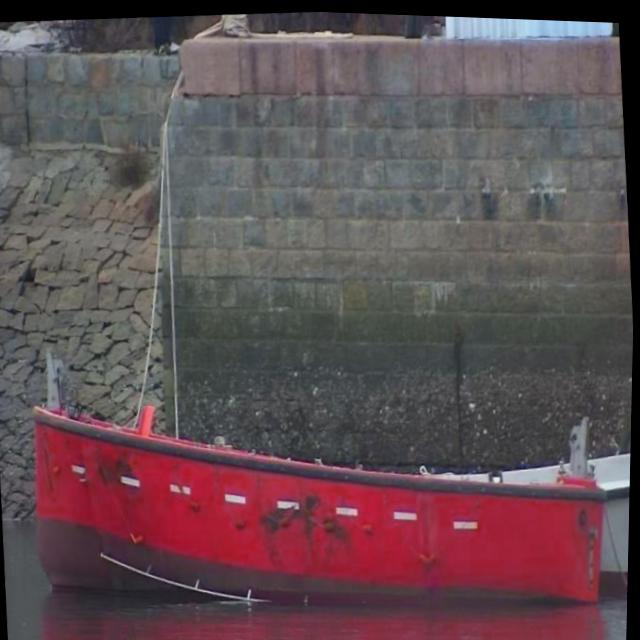ship2: (33, 407, 610, 616)
